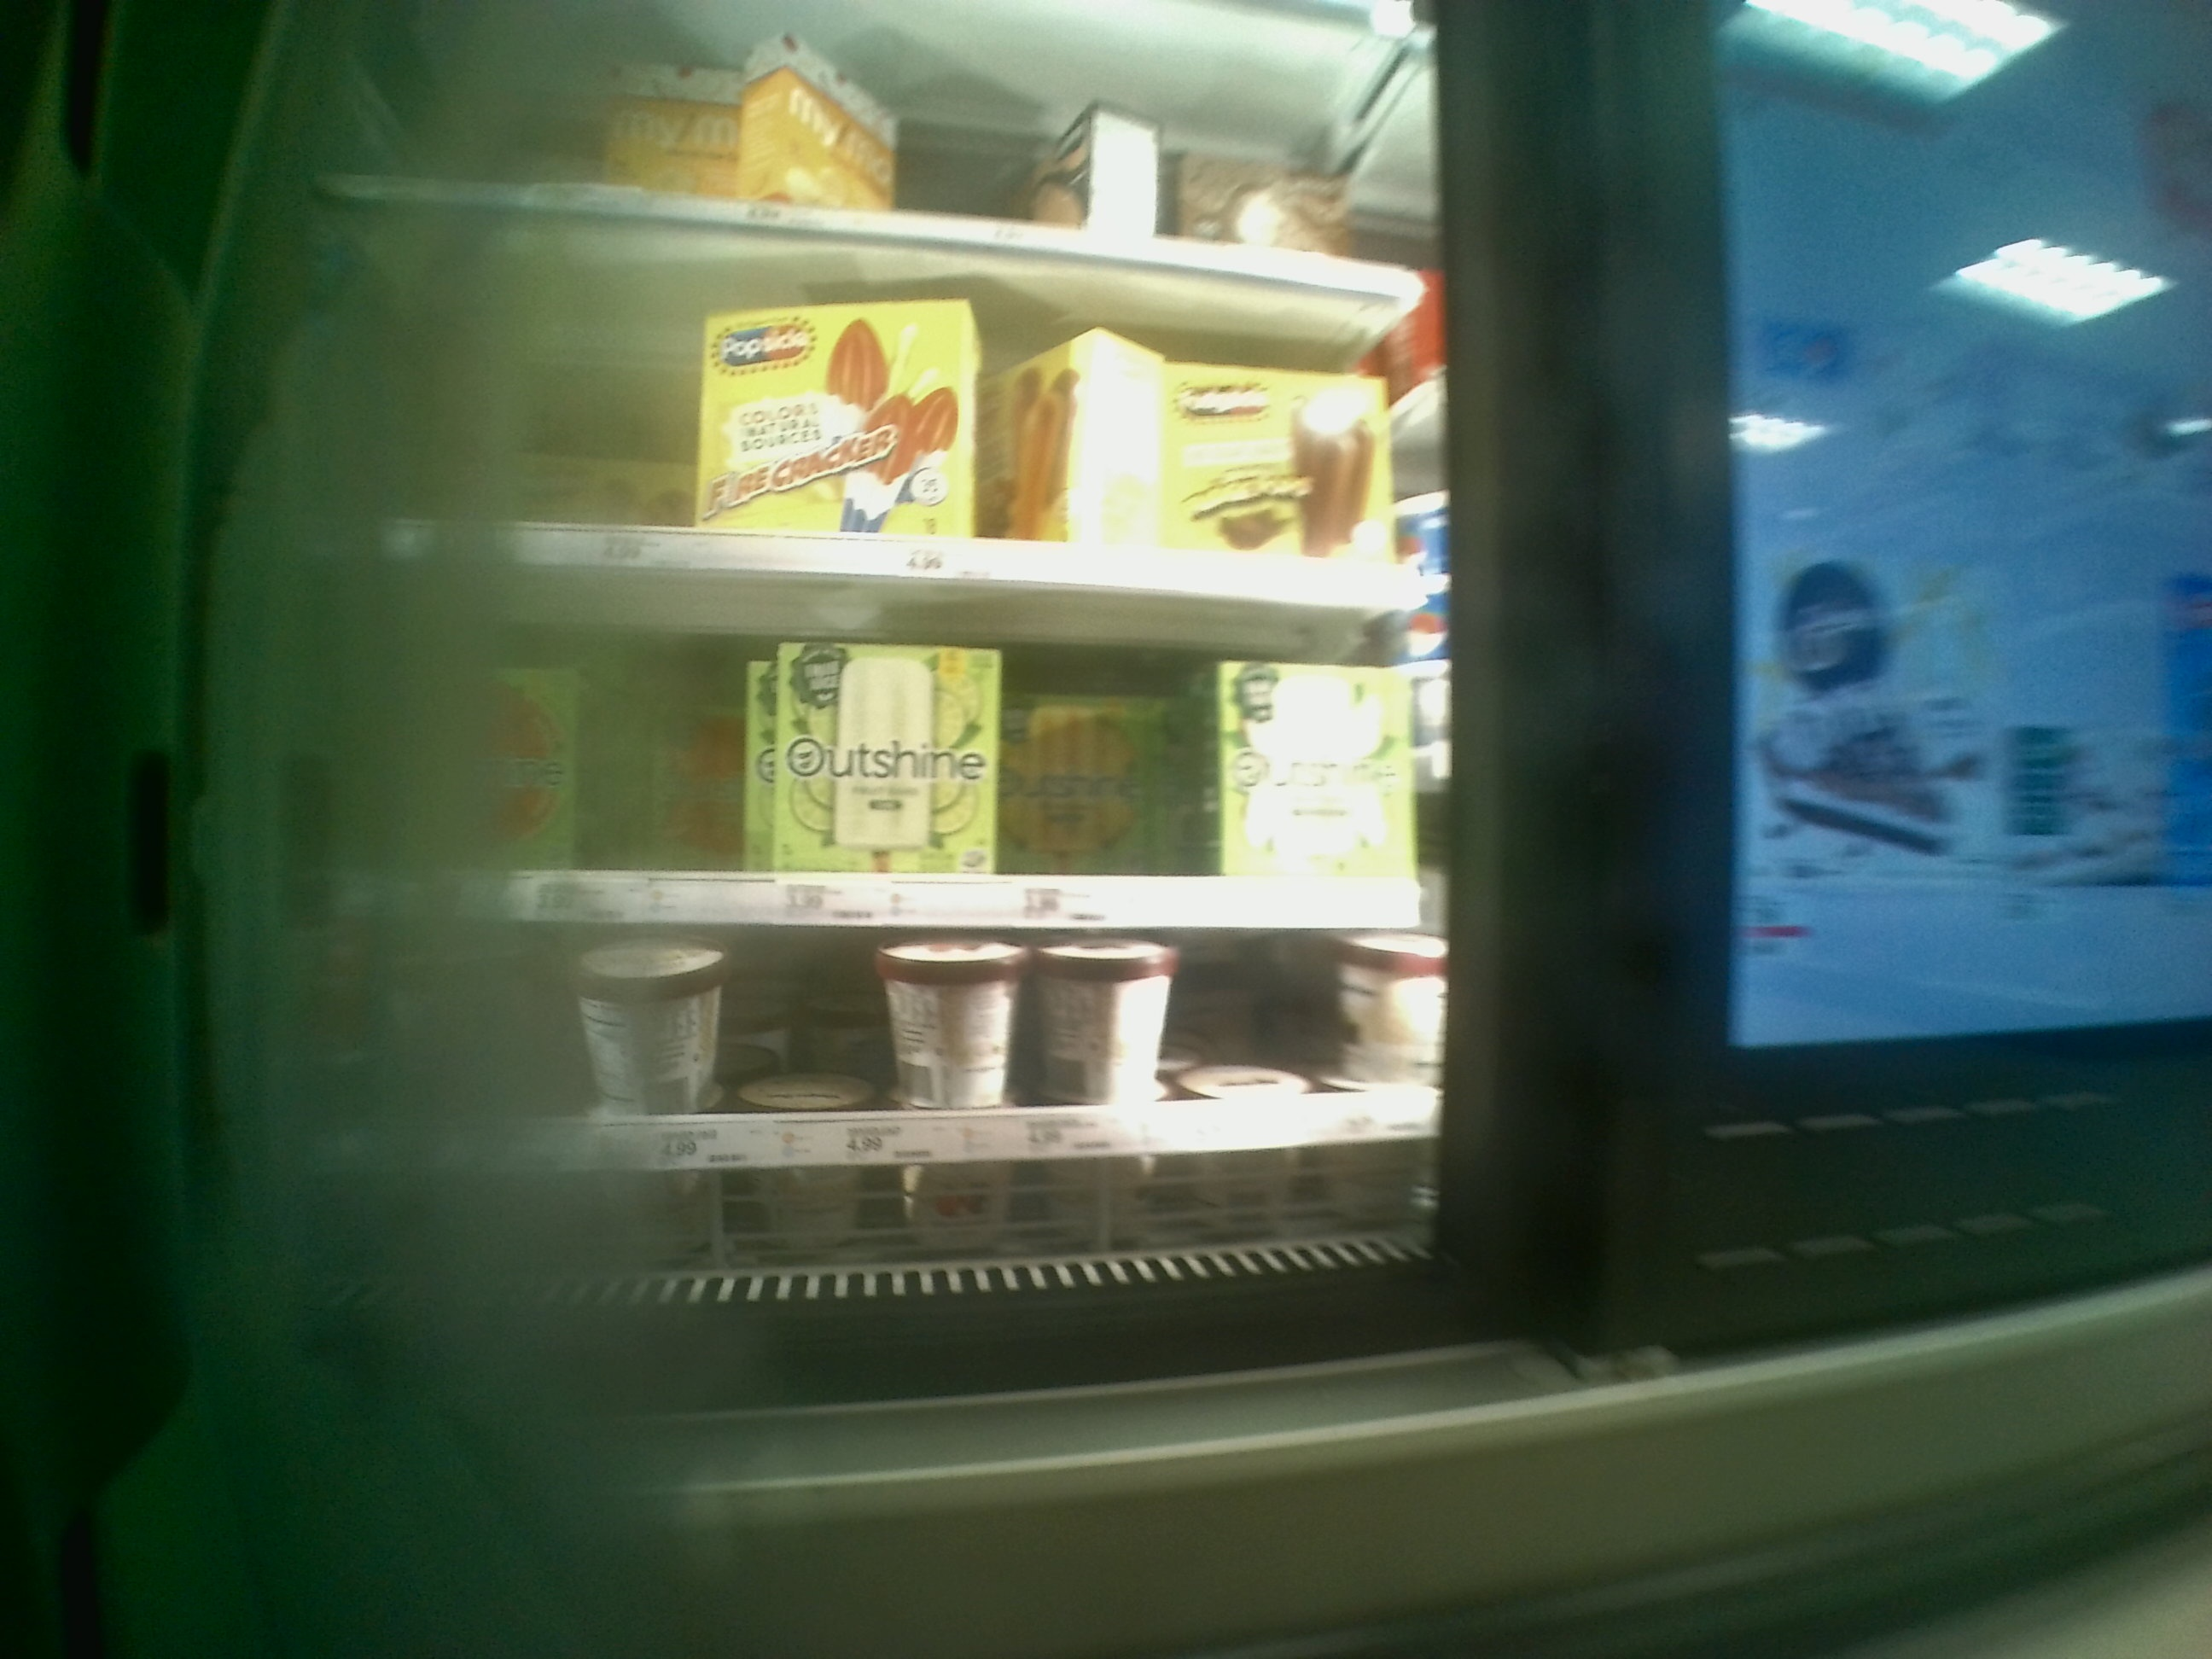shelf: (336, 197, 1418, 613), (336, 573, 1440, 938), (336, 929, 1446, 1218)
